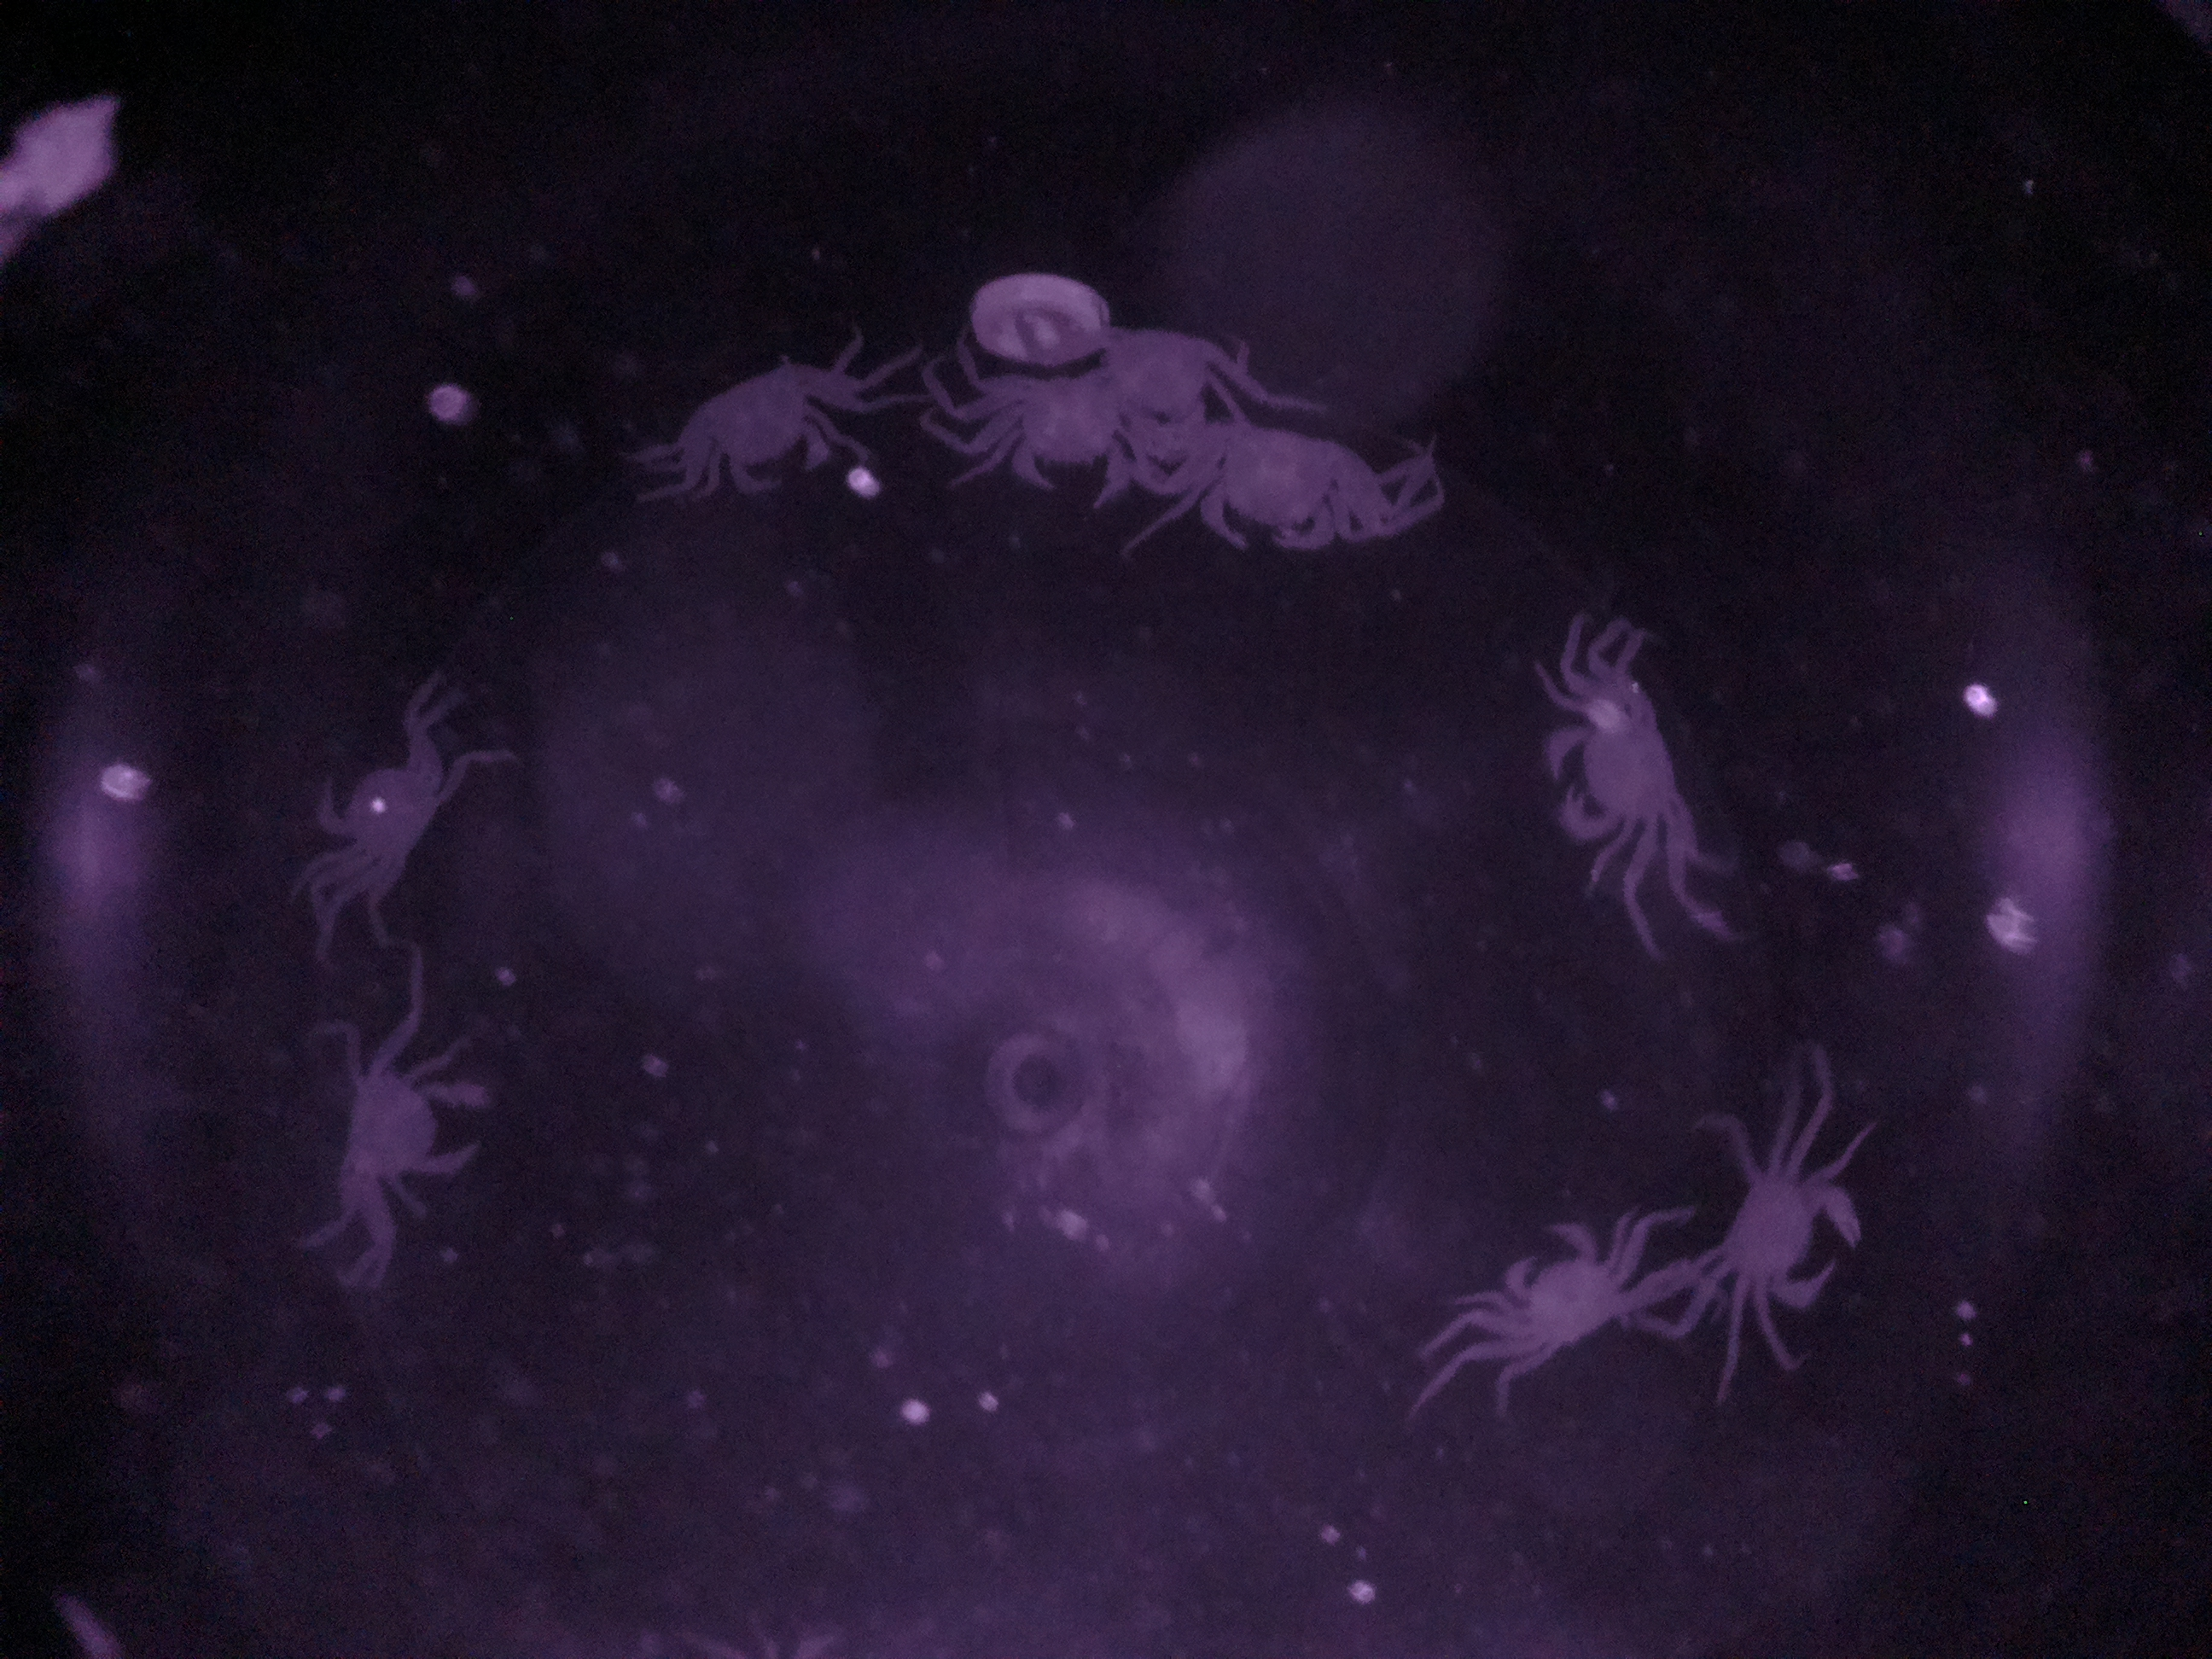Crab: (1531, 662, 1716, 897), (1695, 1134, 1874, 1340), (1458, 1190, 1655, 1377), (658, 335, 850, 514), (312, 1051, 516, 1215)
